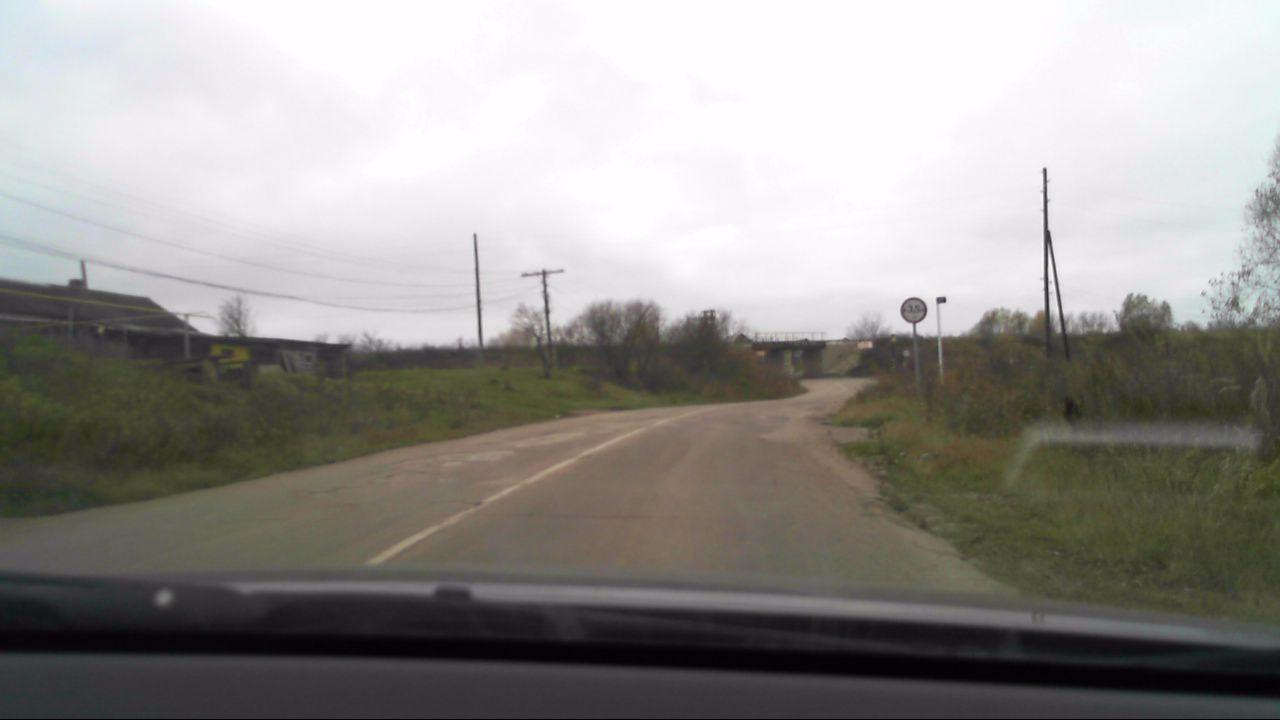3_14: (900, 296, 928, 325)
